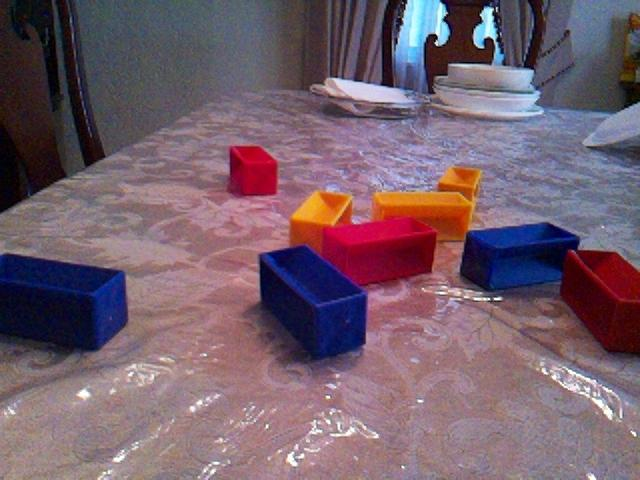blue: (257, 242, 369, 360), (1, 250, 130, 352), (459, 219, 581, 292)
red: (559, 247, 639, 355), (321, 214, 439, 286), (228, 143, 280, 197)
yellow: (371, 189, 474, 242), (289, 188, 355, 254), (437, 164, 483, 201)
